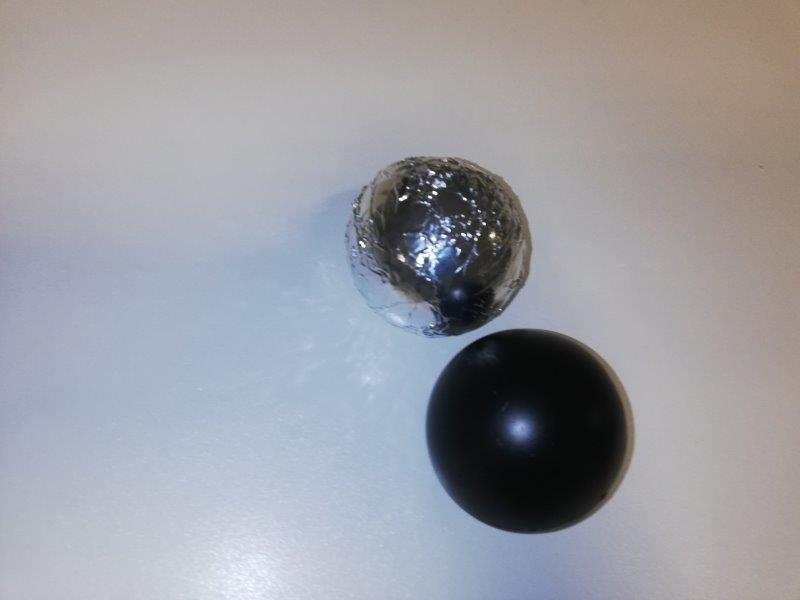bianca: (344, 153, 530, 335)
nera: (424, 327, 628, 535)
